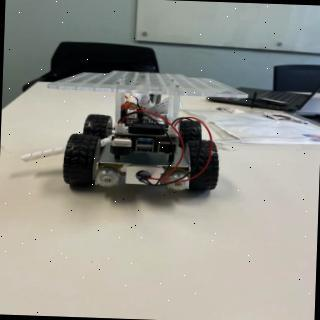vehicle: (59, 72, 227, 205)
